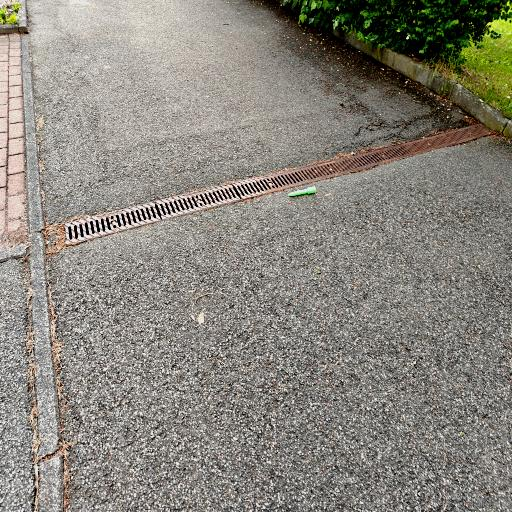Probe-Detection: (288, 186, 316, 196)
